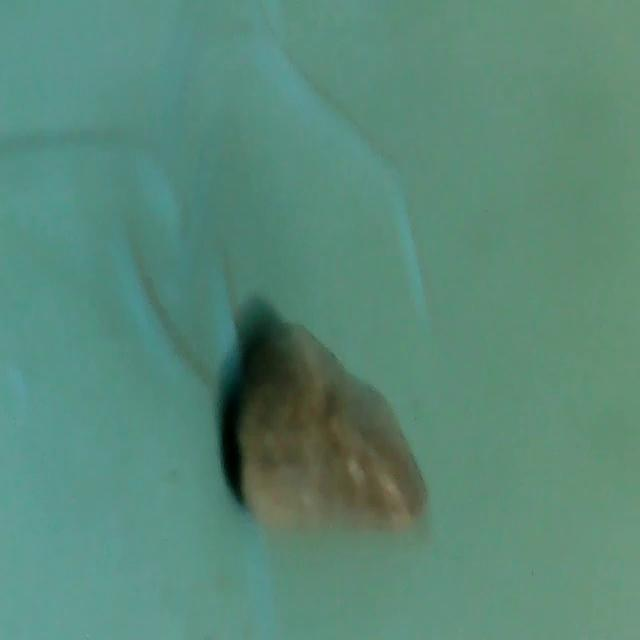rock: (224, 319, 443, 547)
